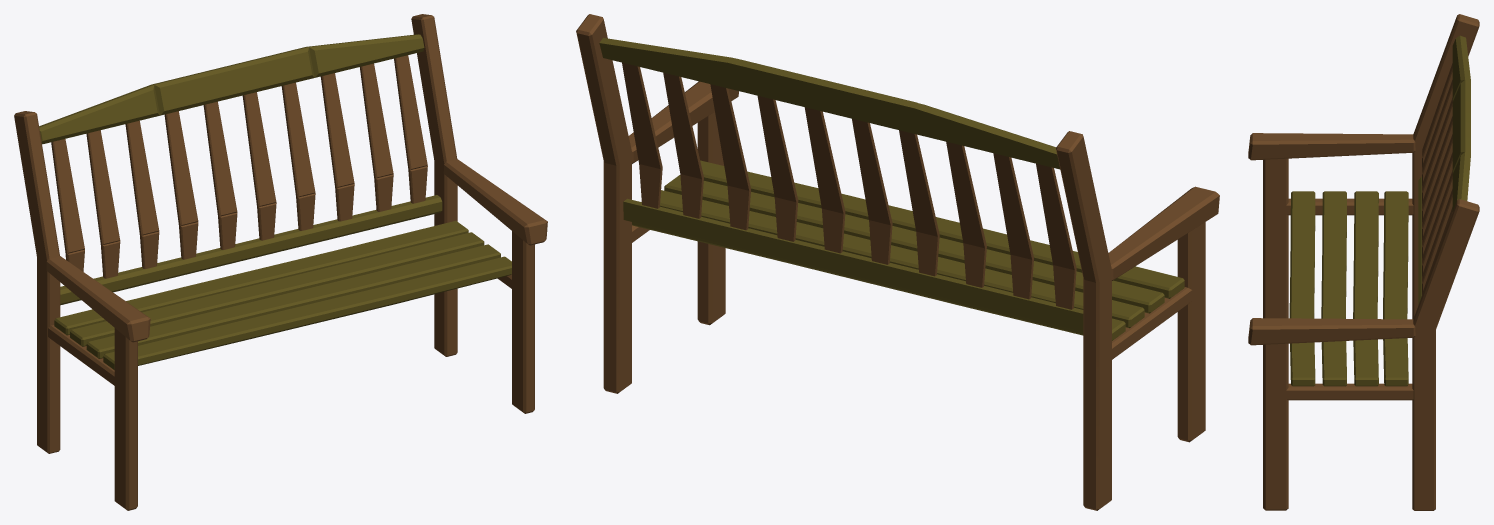
Rendered from bench_a.gltf.
The picture shows the model from 3 angles, left to right: view 1: azimuth 30°, elevation 25°; view 2: azimuth 150°, elevation 25°; view 3: azimuth 270°, elevation 25°; orthographic projection. The views are drawn at different scales.
Visible parts, largest first — view 1: bench_a001; view 2: bench_a001; view 3: bench_a001.
Boxes of the visible parts, x1=… form: bench_a001: x1=14, y1=14, x2=547, y2=510; bench_a001: x1=576, y1=14, x2=1219, y2=510; bench_a001: x1=1248, y1=14, x2=1479, y2=510.
Size of the model in its own units: 1.38 by 1.01 by 0.6873.
1 material, 1 textured.
